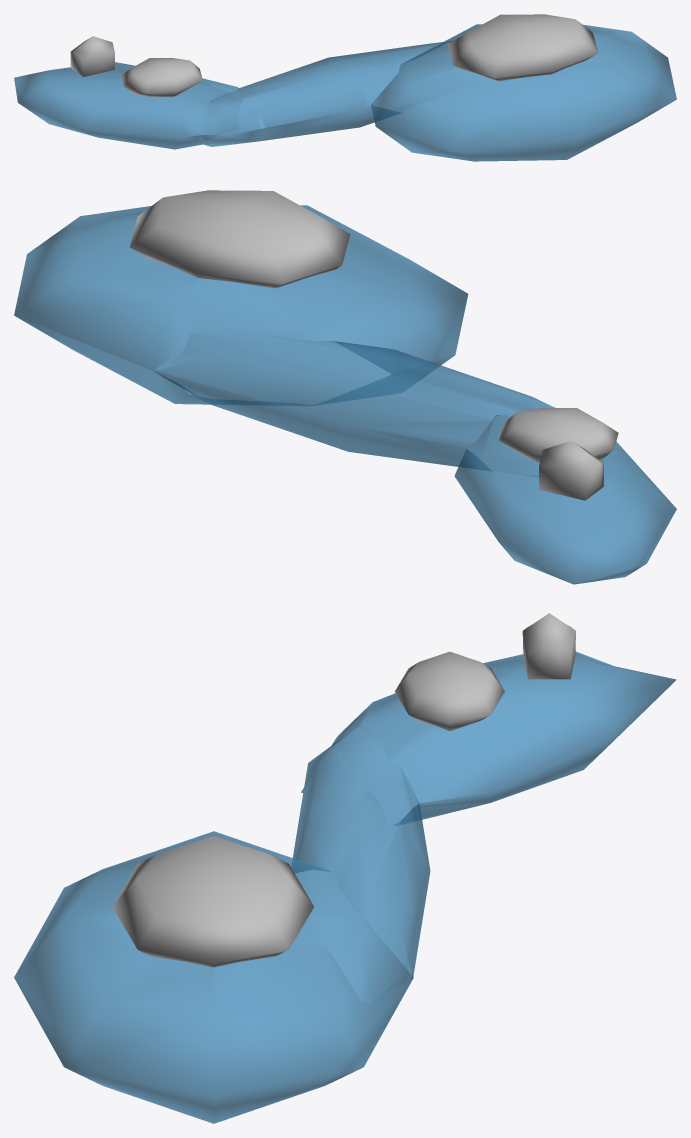
Rendered from note2.fbx.
The picture shows the model from 3 angles, top to bottom: view 1: azimuth 30°, elevation 25°; view 2: azimuth 150°, elevation 25°; view 3: azimuth 270°, elevation 25°; orthographic projection. The views are drawn at different scales.
Parts seen in each view (by area): view 1: polySurface5; view 2: polySurface5; view 3: polySurface5.
Boxes of the visible parts, left/top/right/bottom form: polySurface5: left=14, top=14, right=676, bottom=161; polySurface5: left=14, top=190, right=676, bottom=584; polySurface5: left=14, top=613, right=676, bottom=1123.
Bounding box in the file's own units: 4.76 × 0.9513 × 3.09.
